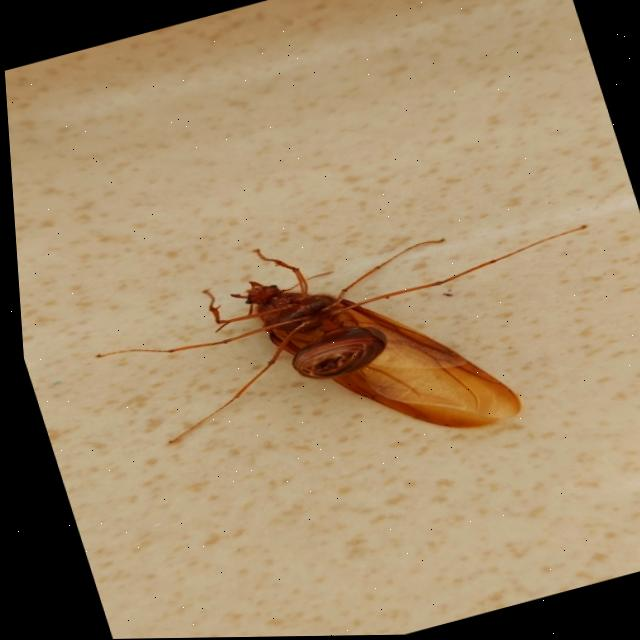Dead-Male-Alate: (67, 165, 639, 517)
